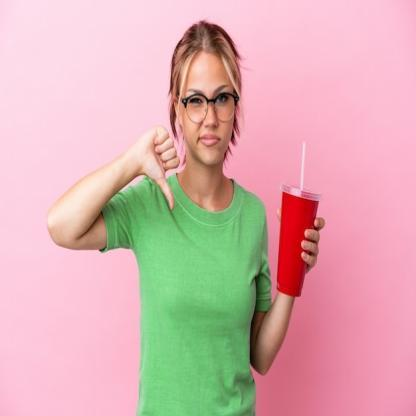thumb_down: (134, 122, 180, 214)
